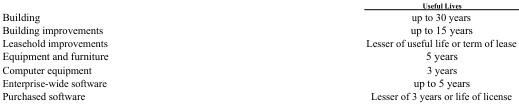table: (1, 0, 515, 101)
table column: (236, 0, 515, 101), (1, 0, 236, 101)
table column header: (1, 0, 515, 9)
table row: (1, 48, 515, 62), (1, 9, 515, 22), (1, 22, 515, 35), (1, 35, 515, 48), (1, 62, 515, 75), (1, 75, 515, 88), (1, 88, 515, 101), (1, 0, 515, 9)
